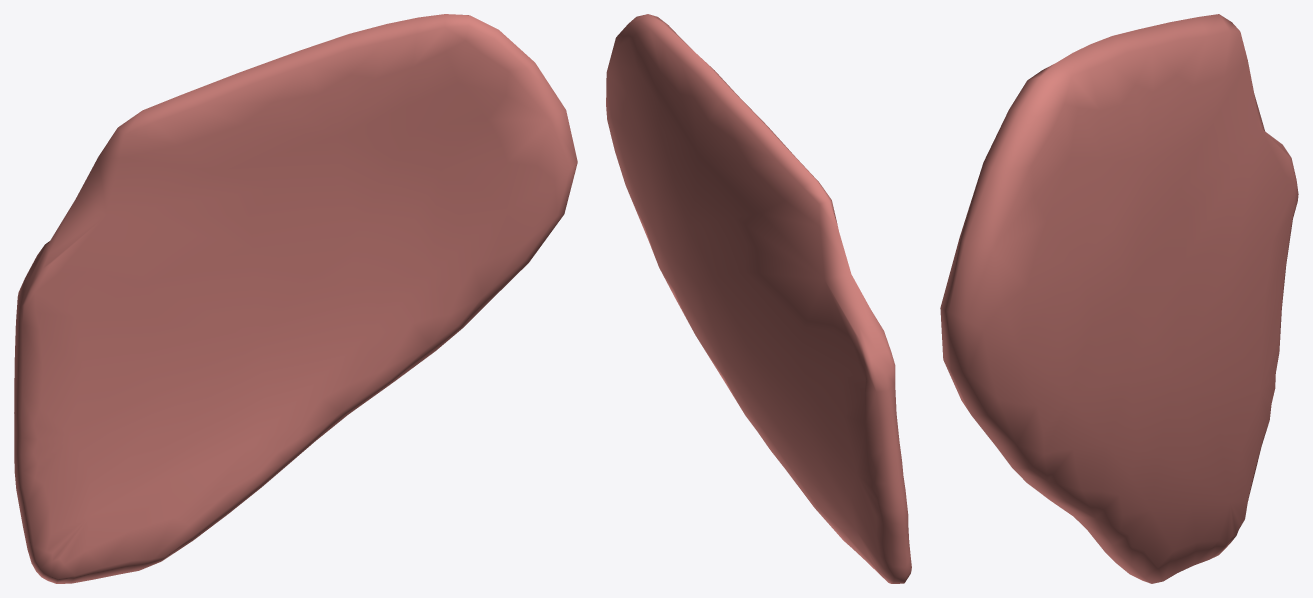
The picture shows the model from 3 angles, left to right: view 1: azimuth 30°, elevation 25°; view 2: azimuth 150°, elevation 25°; view 3: azimuth 270°, elevation 25°; orthographic projection. The views are drawn at different scales.
Visible parts, largest first — view 1: ZA_0ab1c2d8248073b3; view 2: ZA_0ab1c2d8248073b3; view 3: ZA_0ab1c2d8248073b3.
Part boxes in pixels (bbox=[...]): ZA_0ab1c2d8248073b3: bbox=[14, 14, 577, 583]; ZA_0ab1c2d8248073b3: bbox=[606, 14, 911, 583]; ZA_0ab1c2d8248073b3: bbox=[940, 14, 1298, 583].
Bounding box in the file's own units: 0.00695 × 0.00779 × 0.00357.
